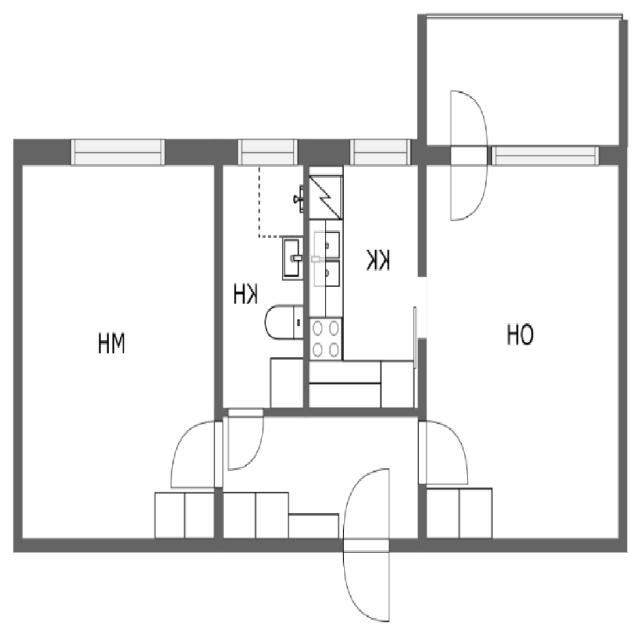door: (334, 460, 396, 628), (447, 87, 490, 227), (160, 410, 223, 492), (416, 410, 478, 488), (222, 406, 266, 476)
window: (488, 136, 603, 176), (66, 128, 170, 172), (342, 130, 417, 167), (234, 136, 300, 165)
zone: (422, 147, 624, 542), (18, 145, 219, 539), (306, 157, 421, 403), (211, 411, 420, 545), (218, 162, 308, 412)
